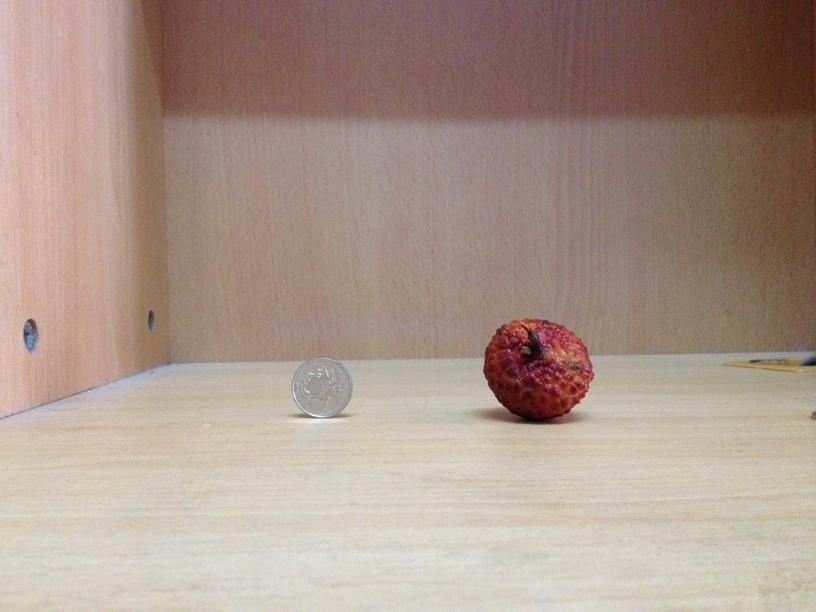coin: (292, 355, 351, 417)
litchi: (480, 318, 594, 425)
